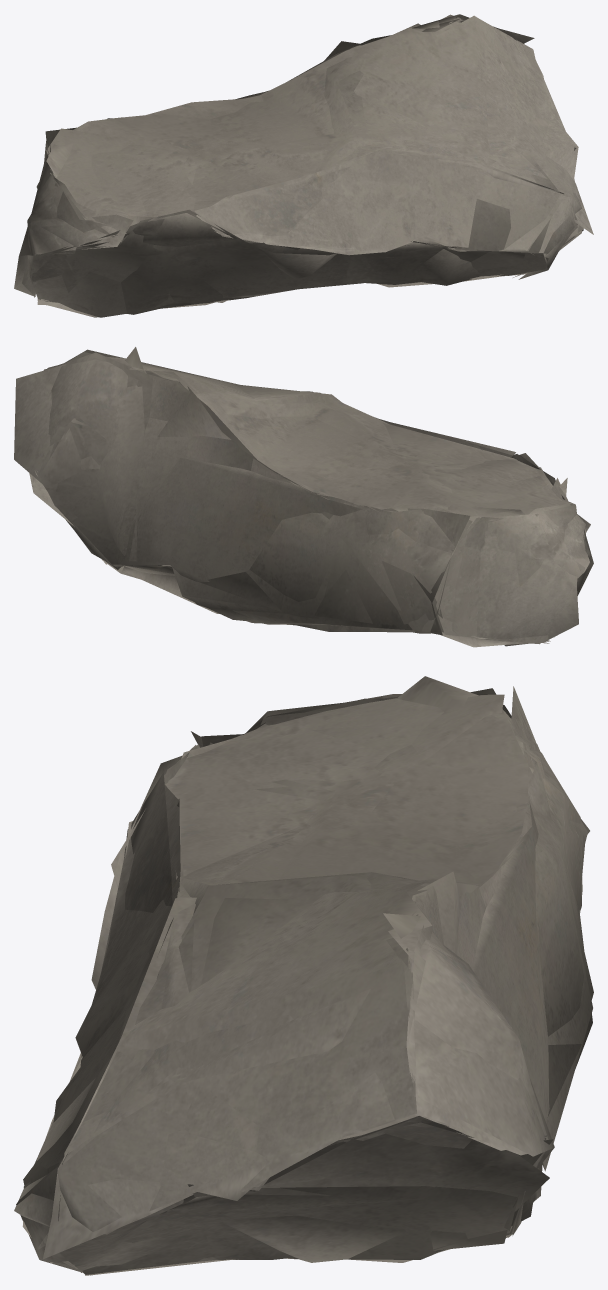
Rendered from ph-moon_rock_01.glb.
The picture shows the model from 3 angles, top to bottom: view 1: azimuth 30°, elevation 25°; view 2: azimuth 150°, elevation 25°; view 3: azimuth 270°, elevation 25°; orthographic projection. The views are drawn at different scales.
Visible parts, largest first — view 1: moon_rock_01; view 2: moon_rock_01; view 3: moon_rock_01.
Part boxes in pixels (x1,y1,x2,y2): moon_rock_01: [14, 14, 593, 317]; moon_rock_01: [14, 347, 593, 647]; moon_rock_01: [14, 676, 593, 1275].
Size of the model in its own units: 0.2159 by 0.0805 by 0.1124.
Materials: 1 (1 with a texture image).
